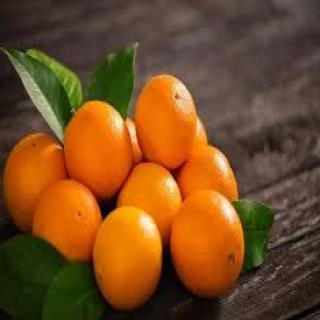orange: (165, 174, 242, 296), (68, 90, 132, 222), (136, 63, 210, 175), (92, 202, 156, 320), (34, 170, 96, 282)
